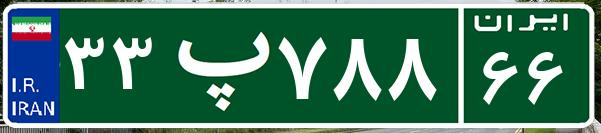3: (57, 26, 110, 107), (110, 28, 158, 105)
6: (475, 38, 525, 113), (525, 38, 570, 115)
7: (273, 28, 330, 110)
8: (385, 28, 445, 110), (330, 28, 385, 110)
پ: (158, 15, 273, 115)
